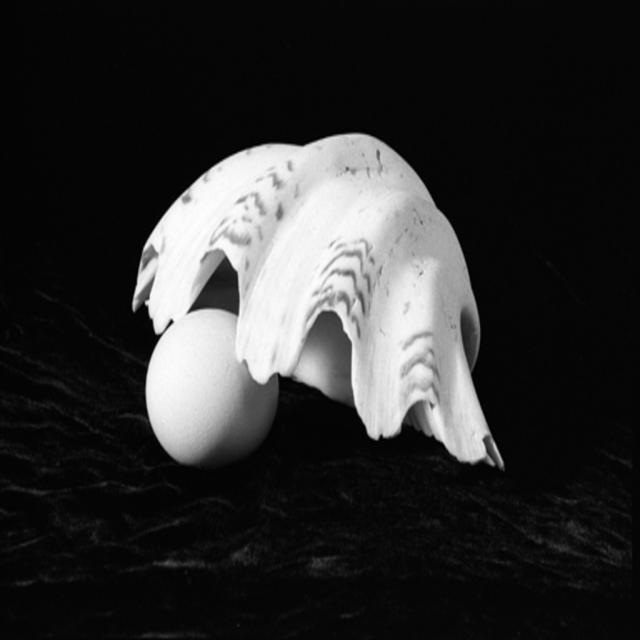Egg: (144, 306, 282, 465)
